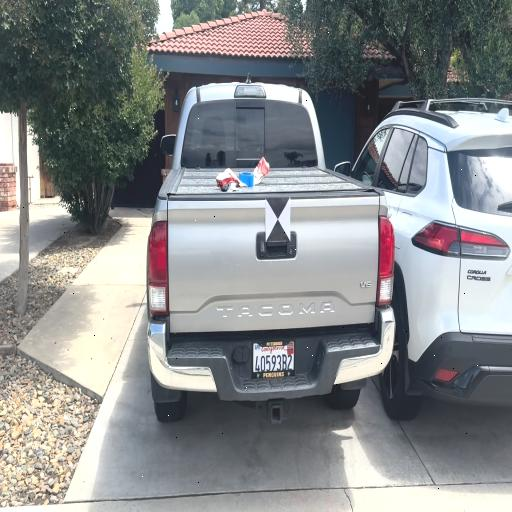target: (265, 198, 291, 240)
